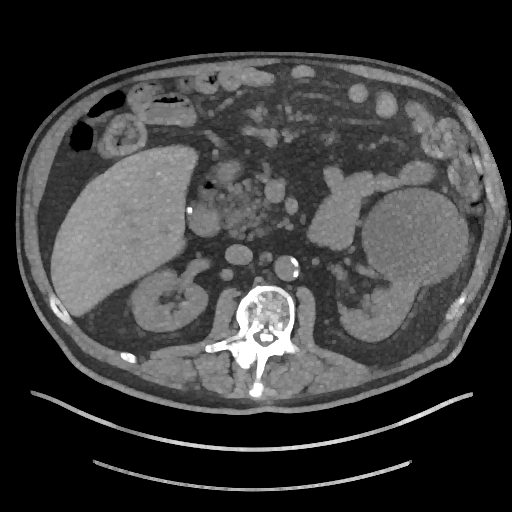Lesion: (356, 183, 471, 291)
